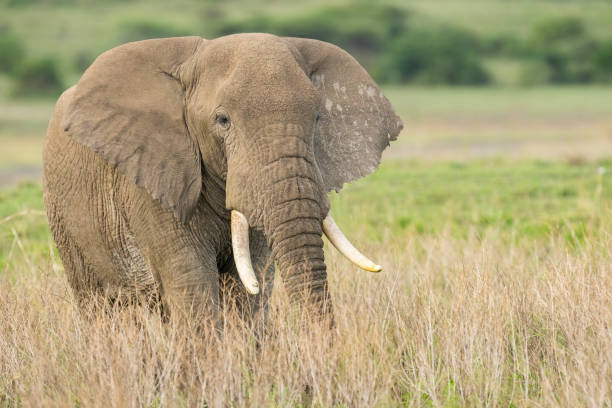africanelephant: (139, 42, 400, 343)
